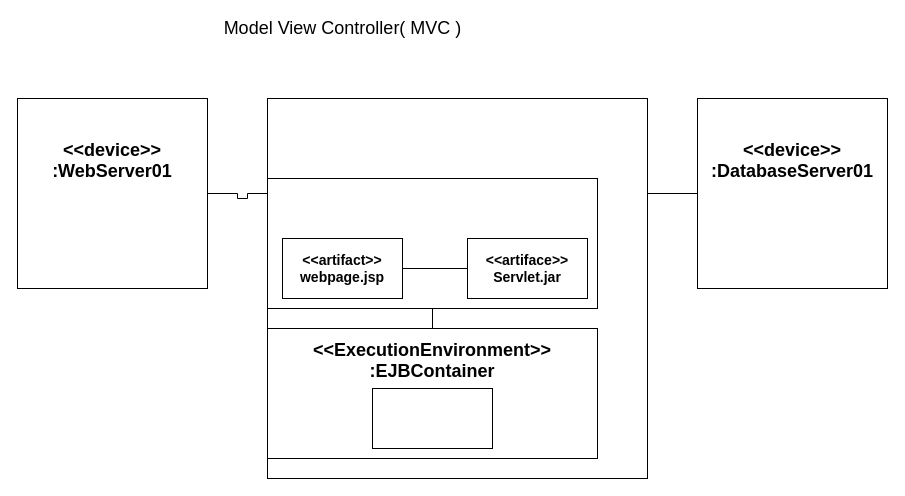
The diagram is 905 pixels wide and 496 high, and some of its shapes have lost their labels. The shapes that lost their labels are listed below. From the top down, each one's box as (x1, y1, x2, y2) in pixels, then its label:
(266, 178, 598, 308): <<ExecutionEnv>> :WebContainer
(266, 98, 648, 478): <<device>> :ApplicationServer01
(372, 388, 492, 448): <<artiface>> EJB.jar
